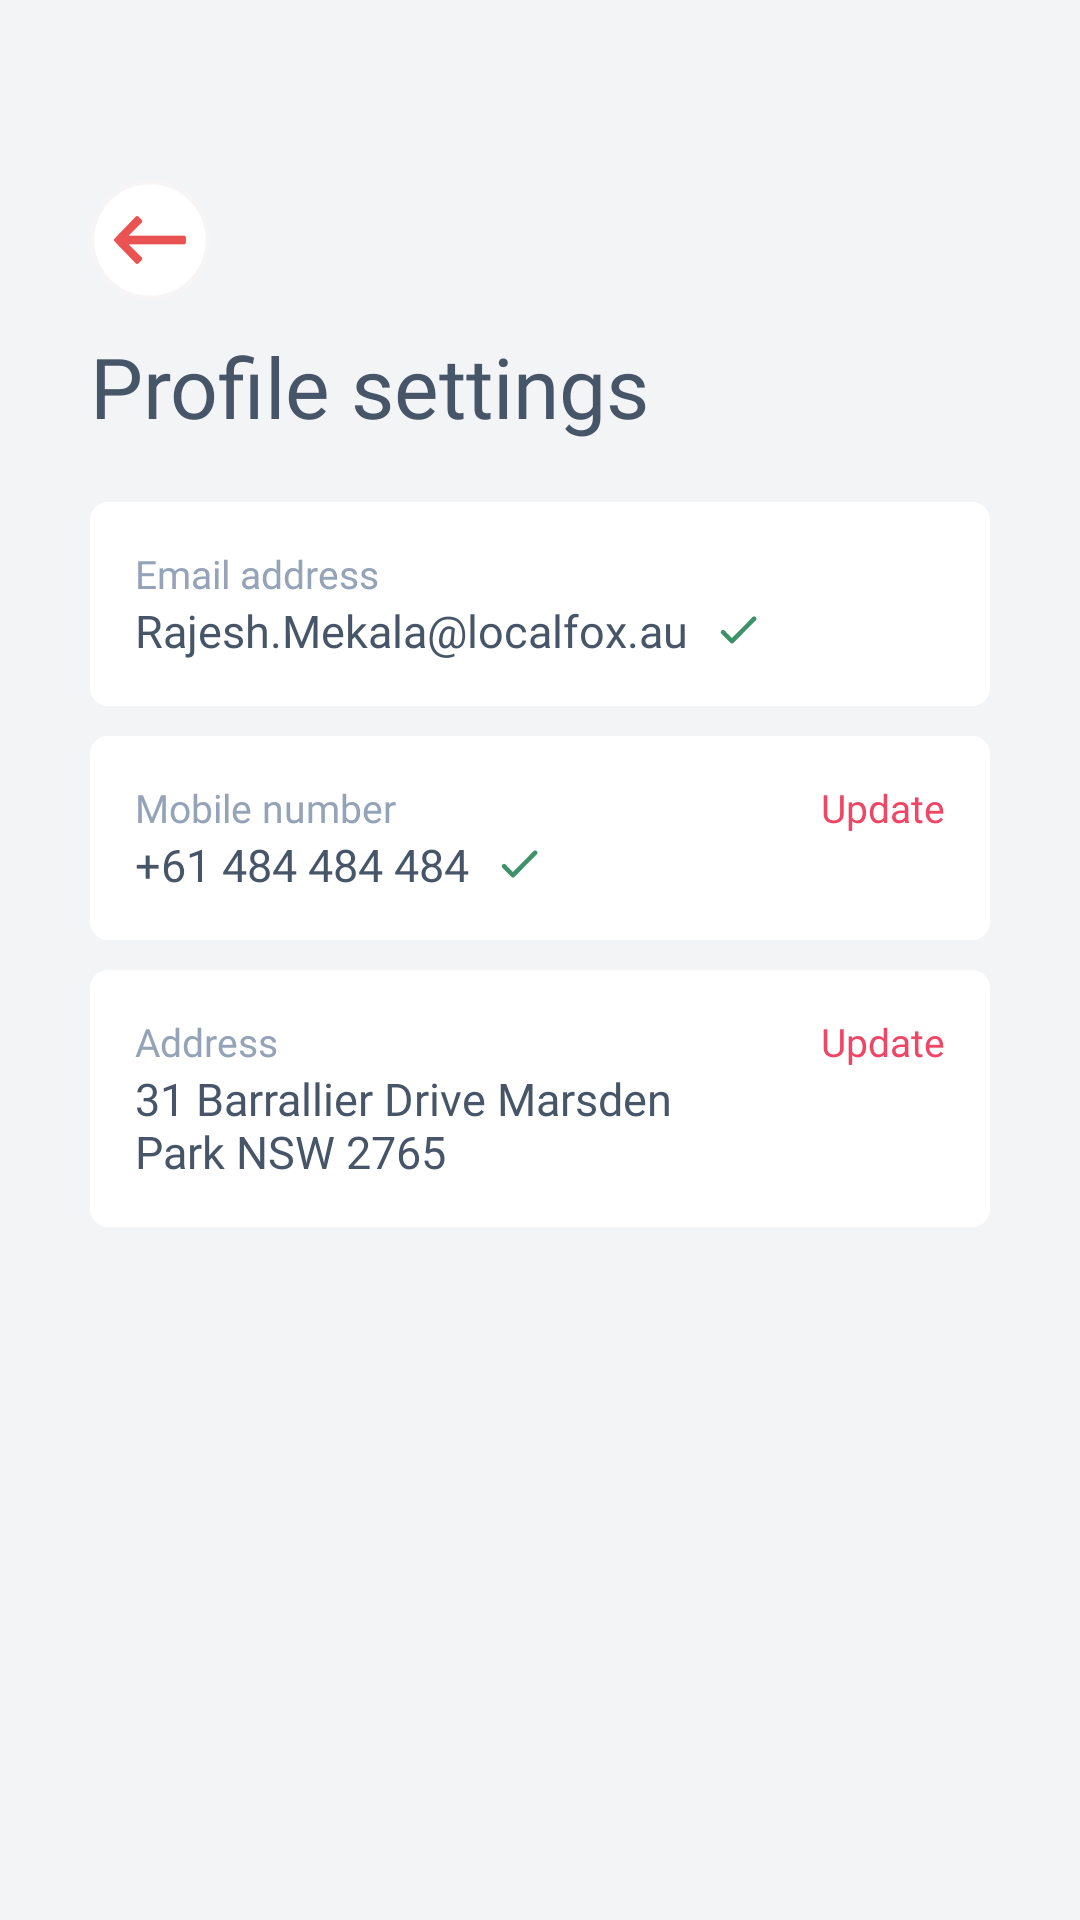

Point at icon controls on the screen. Image size 1080 x 1920, points as (x=x, y=y).
back: (x=150, y=240)
